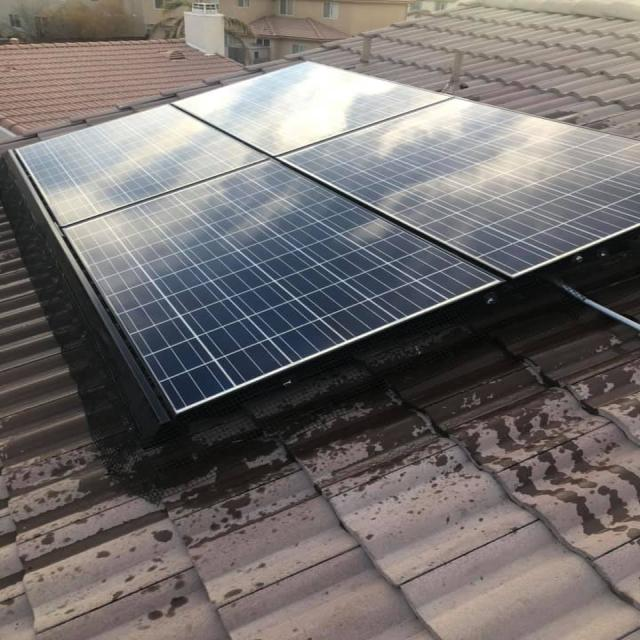clean-solar-panel: (13, 62, 638, 421)
